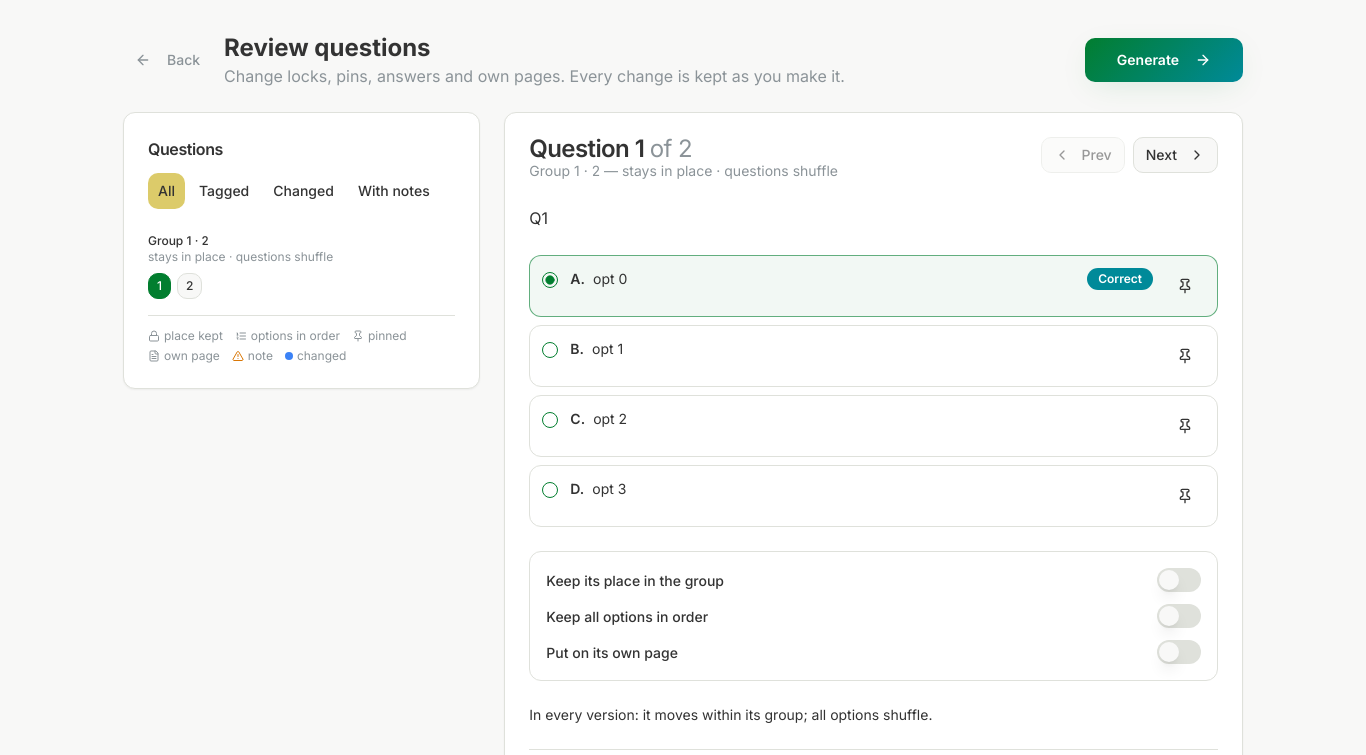
Scenario: Questions page › pins options, says what moves, and warns when no option can move
Click the button named "Pin option D": (1185, 496) [1165,478,1205,514]
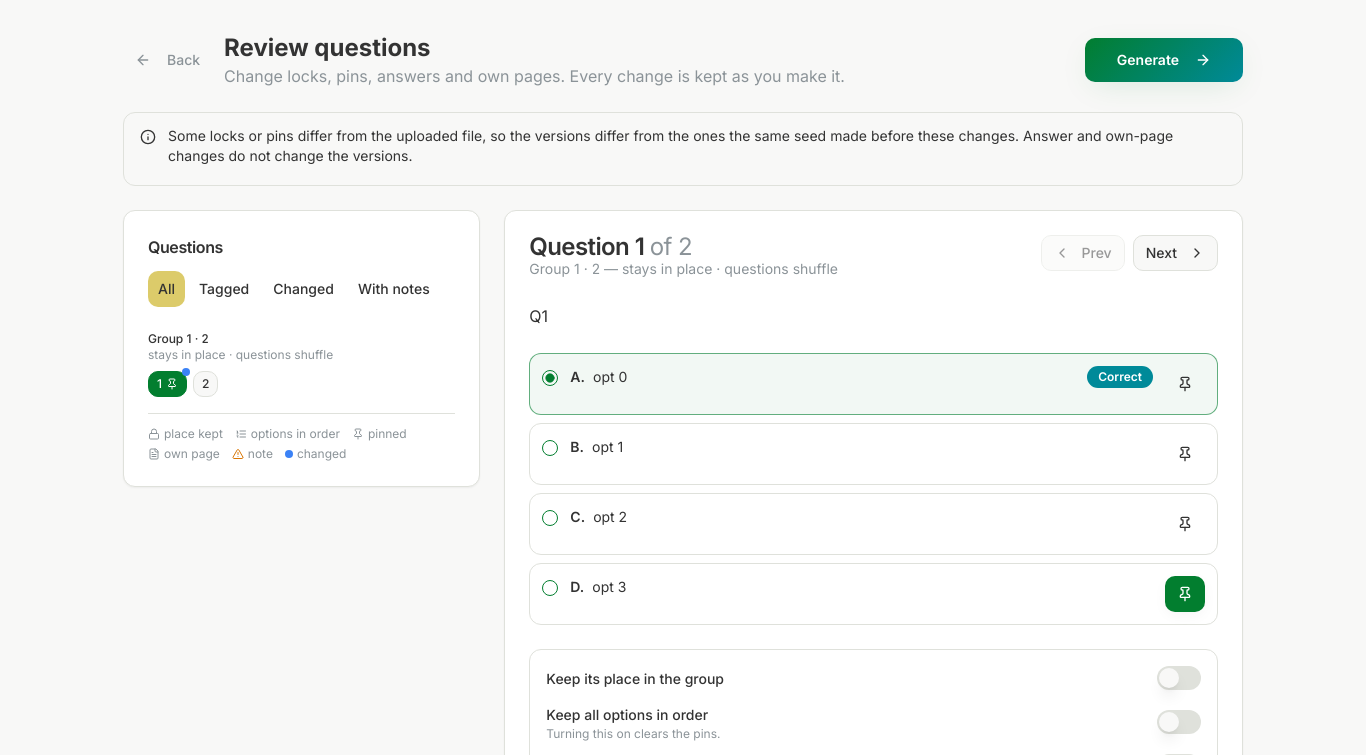
Click the button named "Pin option A": (1185, 384) [1165,366,1205,402]
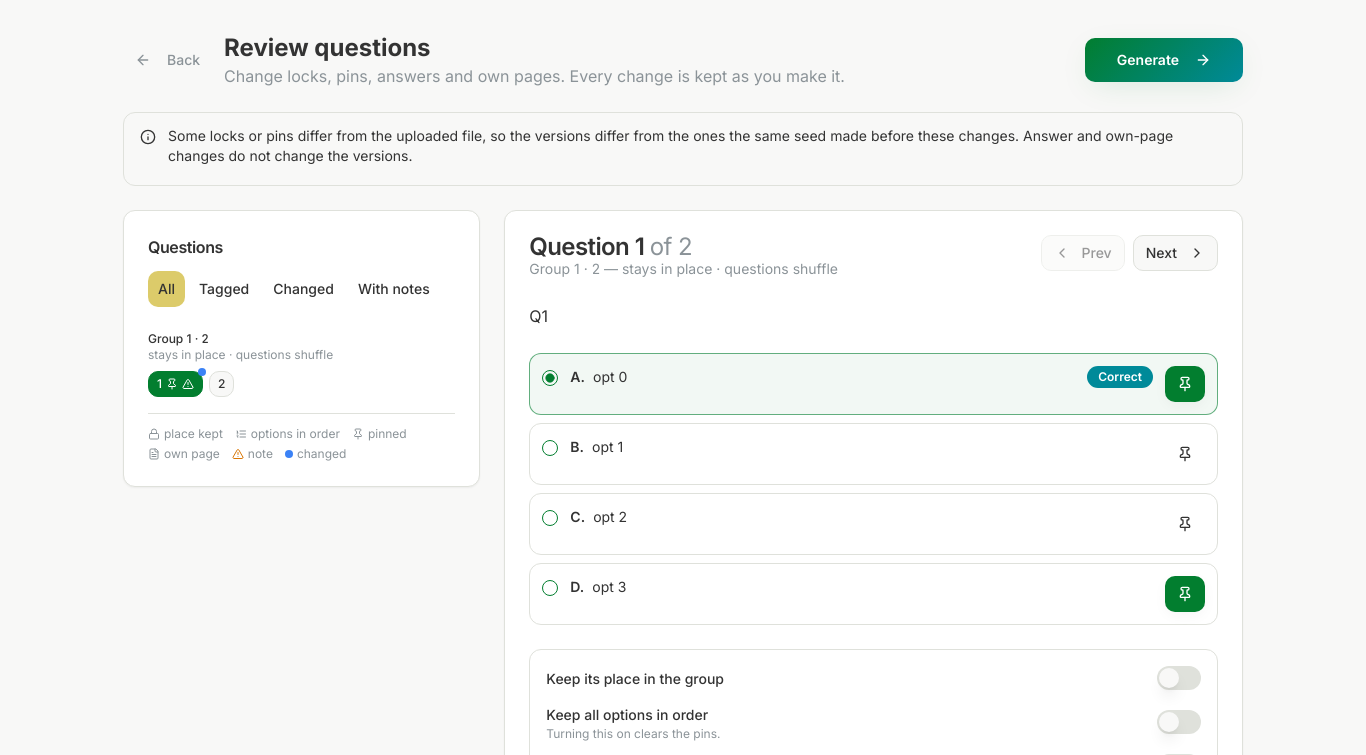
Click the button named "Pin option B": (1185, 454) [1165,436,1205,472]
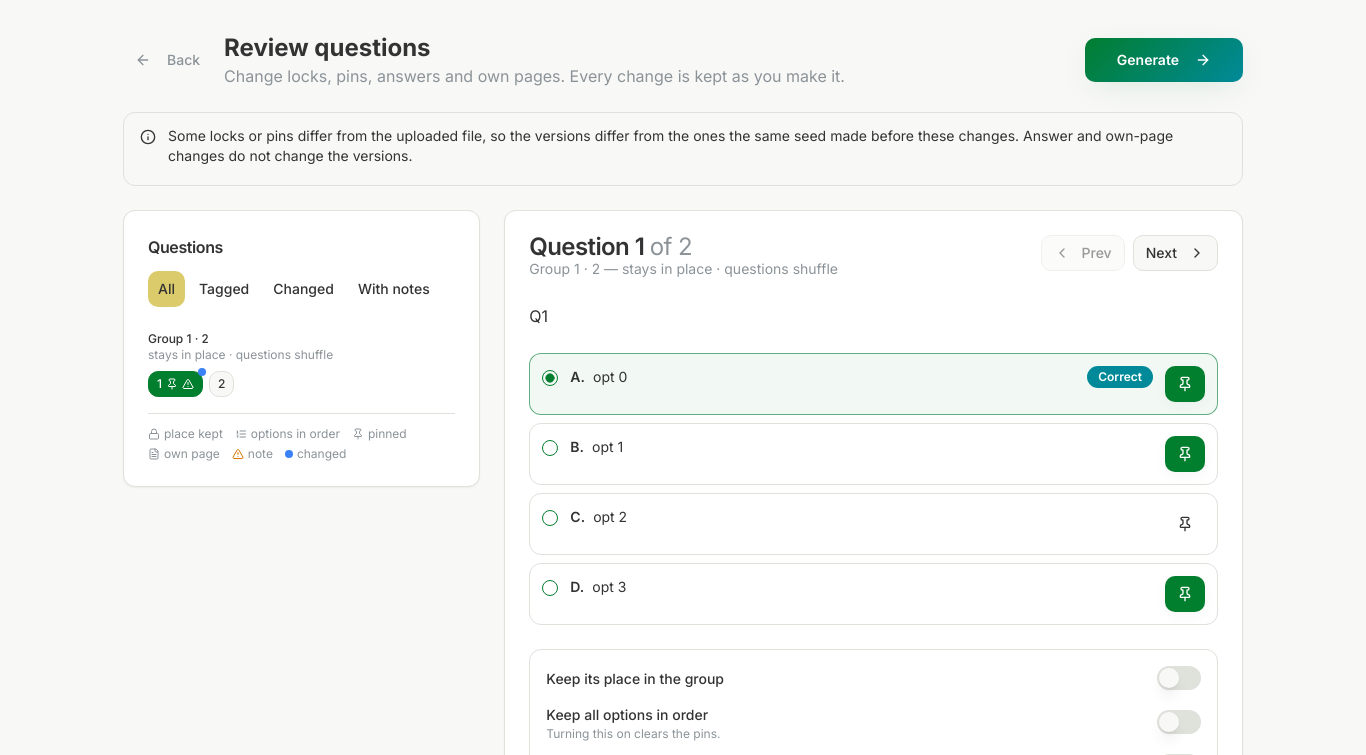
Click the button named "Pin option C": (1185, 524) [1165,506,1205,542]
(page scrolled)
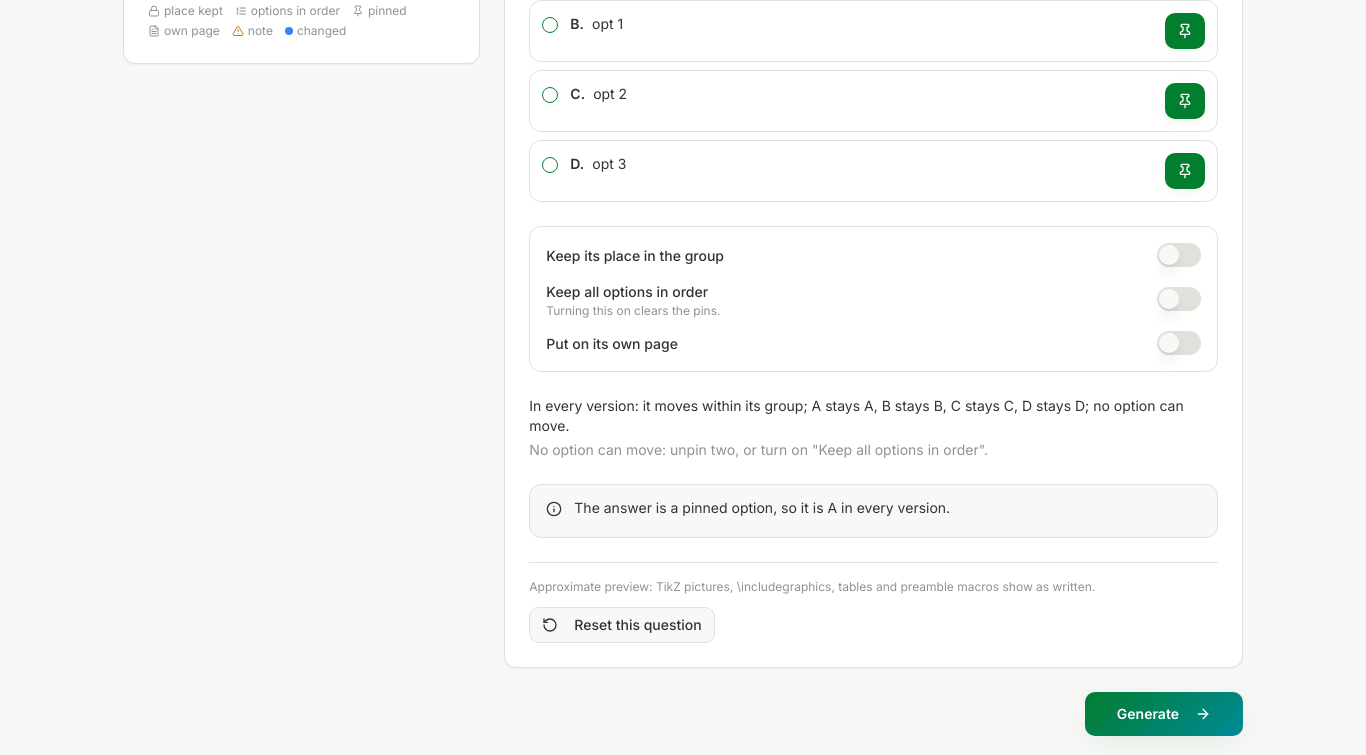
Now the text with test id "nothing-to-shuffle" shows "unpin two,", box [529,441,988,458]
